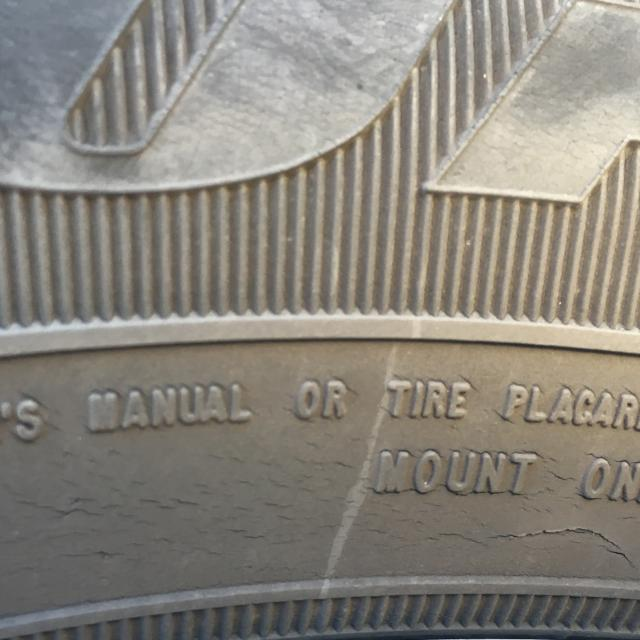Cracks: (0, 413, 640, 580)
Non-defective: (0, 0, 640, 378)
